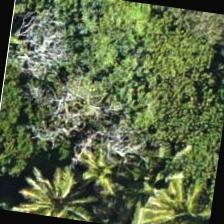Kelapa_Sawit: (53, 114, 154, 216), (14, 150, 113, 223), (124, 154, 218, 223)
